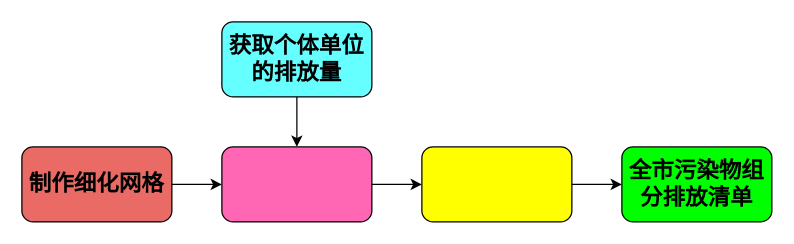
The diagram is 794 pixels wide and 244 high, and some of its shapes have lost their labels. The shapes that lost their labels are listed below. From the top down, each one's centre as x and y in pixels, then its label:
point (296, 184): 归档细化网格
point (496, 184): 网格化组分排放量
